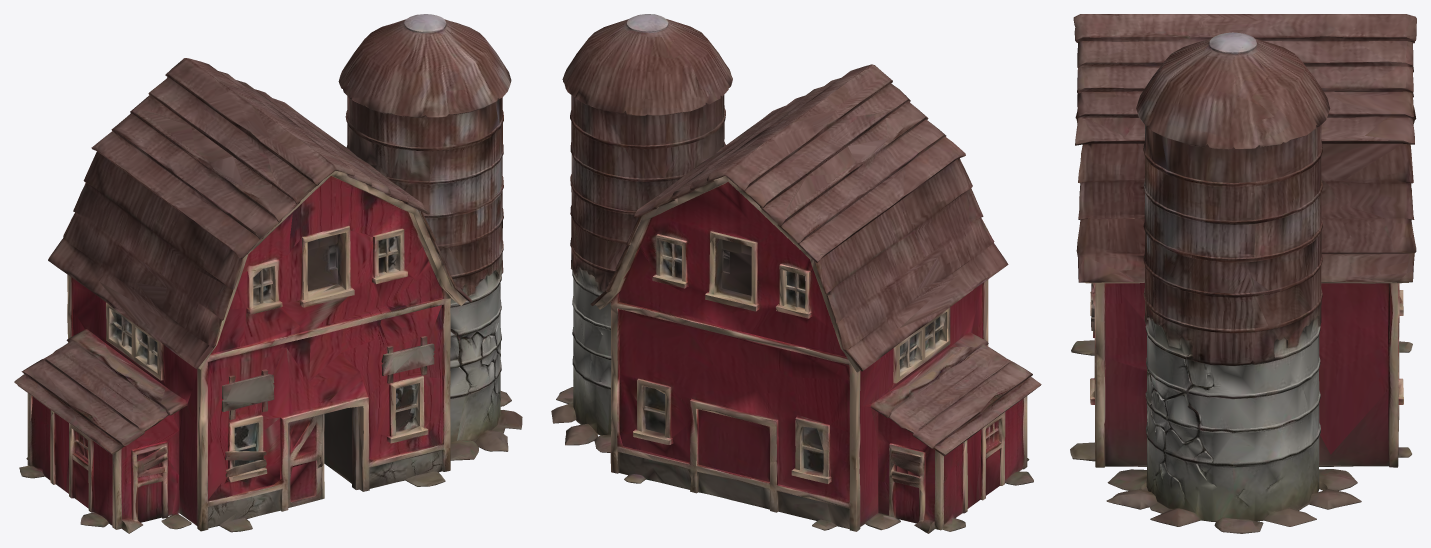
Rendered from farm_barn_idle.glb.
3 renders of one model, left to right at view 1: azimuth 30°, elevation 25°; view 2: azimuth 150°, elevation 25°; view 3: azimuth 270°, elevation 25°, orthographic. The views are drawn at different scales.
Parts seen in each view (by area): view 1: tripo_node_16268ccd-02fc-494a-91bd-11756a477ff9; view 2: tripo_node_16268ccd-02fc-494a-91bd-11756a477ff9; view 3: tripo_node_16268ccd-02fc-494a-91bd-11756a477ff9.
Part boxes in pixels (x1,y1,x2,y2): tripo_node_16268ccd-02fc-494a-91bd-11756a477ff9: (14, 14, 522, 533); tripo_node_16268ccd-02fc-494a-91bd-11756a477ff9: (551, 14, 1041, 533); tripo_node_16268ccd-02fc-494a-91bd-11756a477ff9: (1070, 14, 1416, 533).
Size of the model in its own units: 16 by 13.42 by 9.39.
Materials: 1 (1 with a texture image).
